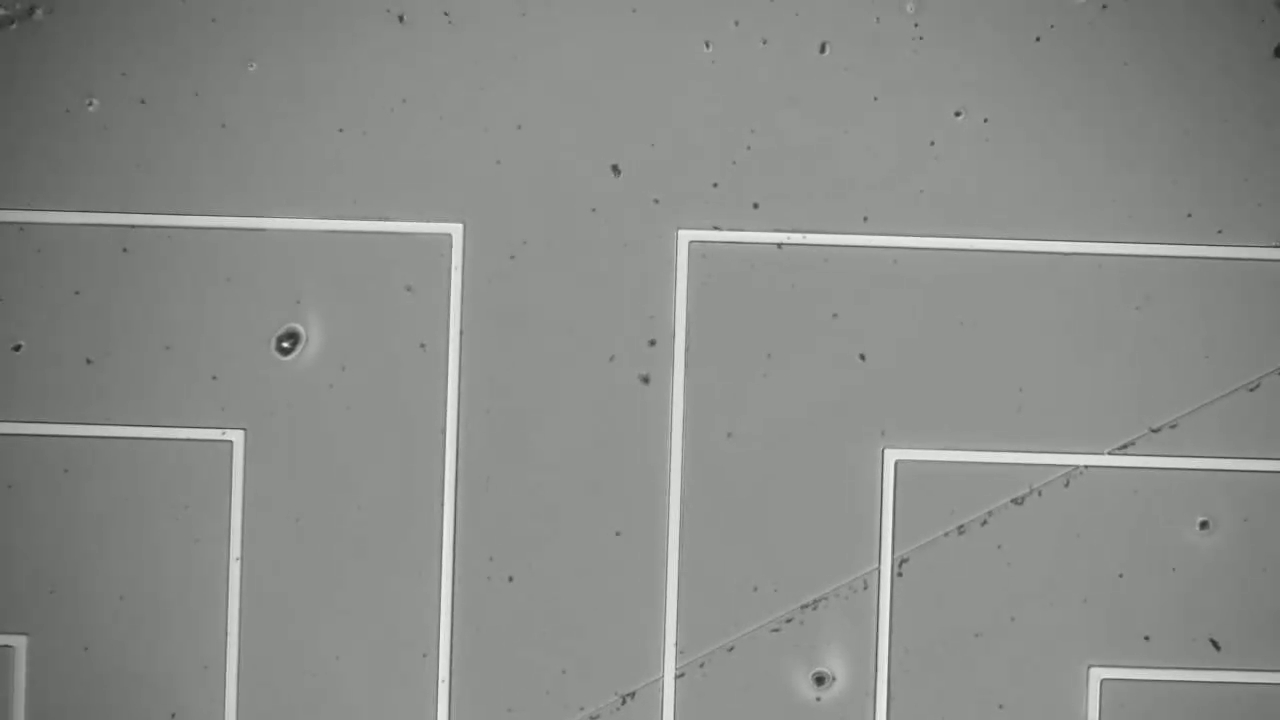scratch: (610, 360, 1280, 698)
